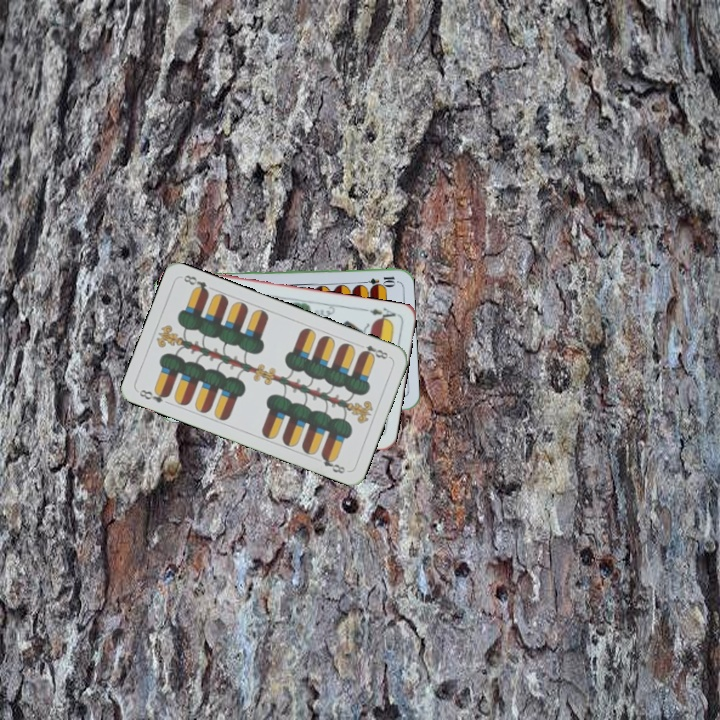E10: (357, 272, 398, 288)
E8: (356, 341, 393, 362), (135, 385, 172, 406)
EA: (366, 303, 400, 325)
